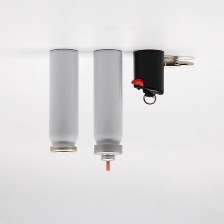aerosol_cans: (91, 47, 125, 173), (45, 44, 83, 156)
